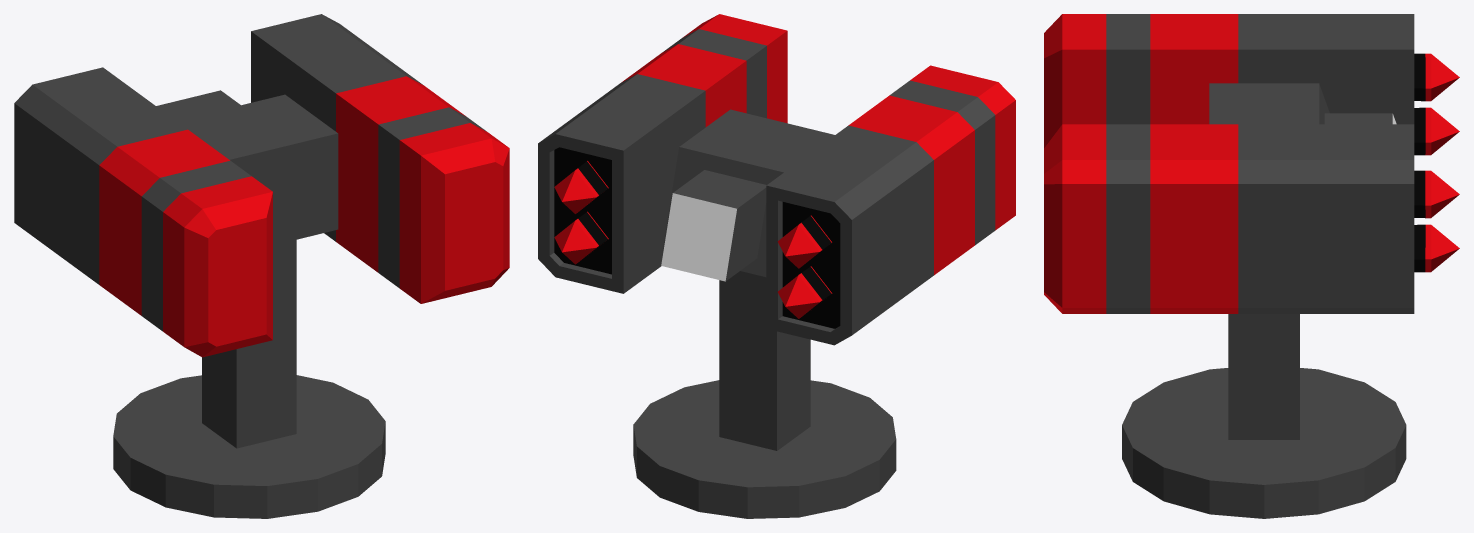
File: Enemy_RocketTurret.fbx
The picture shows the model from 3 angles, left to right: view 1: azimuth 30°, elevation 25°; view 2: azimuth 150°, elevation 25°; view 3: azimuth 270°, elevation 25°; orthographic projection. The views are drawn at different scales.
Parts seen in each view (by area): view 1: RocketTurret_Elevation, RocketTurret_Base, RocketTurret_Azimuth; view 2: RocketTurret_Elevation, RocketTurret_Base, RocketTurret_Azimuth, Rockets; view 3: RocketTurret_Elevation, RocketTurret_Base, Rockets, RocketTurret_Azimuth.
Boxes of the visible parts, box(x1,y1,x2,y2) form: RocketTurret_Elevation: box(14, 14, 509, 357); RocketTurret_Base: box(113, 240, 385, 518); RocketTurret_Azimuth: box(156, 90, 338, 245); RocketTurret_Elevation: box(538, 14, 1015, 345); RocketTurret_Base: box(633, 271, 896, 518); RocketTurret_Azimuth: box(661, 109, 834, 281); Rockets: box(554, 161, 832, 318); RocketTurret_Elevation: box(1044, 14, 1414, 313); RocketTurret_Base: box(1122, 314, 1406, 518); Rockets: box(1414, 53, 1459, 272); RocketTurret_Azimuth: box(1209, 83, 1396, 124).
Size of the model in its own units: 708 by 757 by 747.
